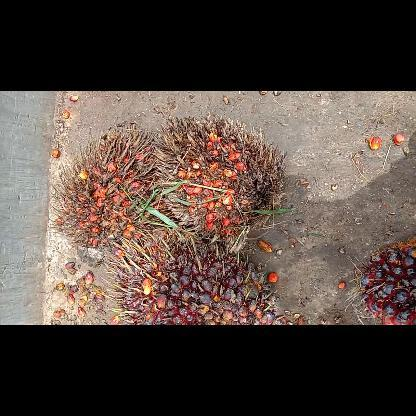TBS masak: (100, 230, 288, 324)
Terlalu masak: (147, 112, 287, 246), (50, 120, 162, 268)
